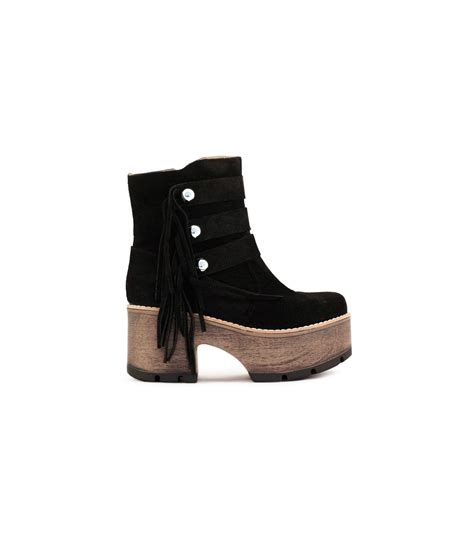gamuza: (126, 156, 348, 330)
